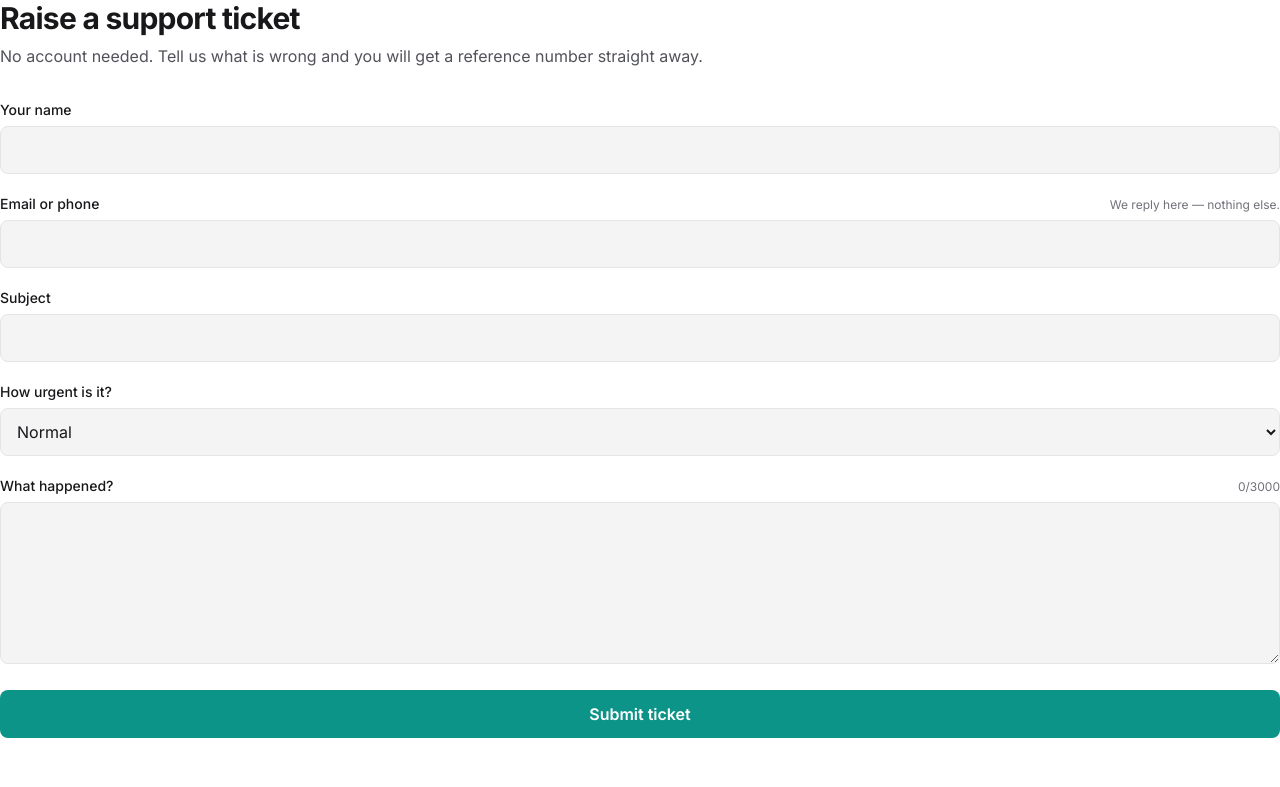
Test: SupportForm › needs no login and shows validation errors on an empty submit
Click the button "Submit ticket": (640, 714) [0,690,1279,738]
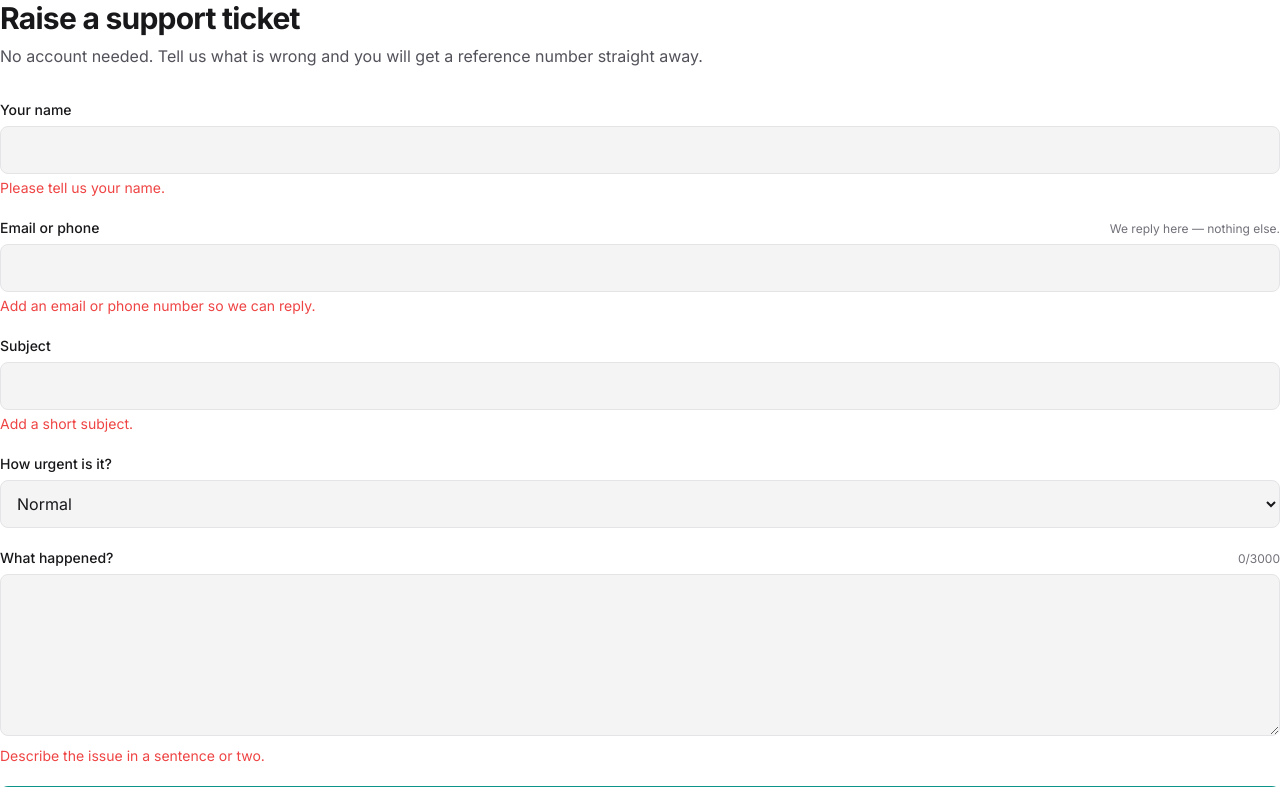
Result: the text "Please tell us your name." is shown at [0,179,165,196]
